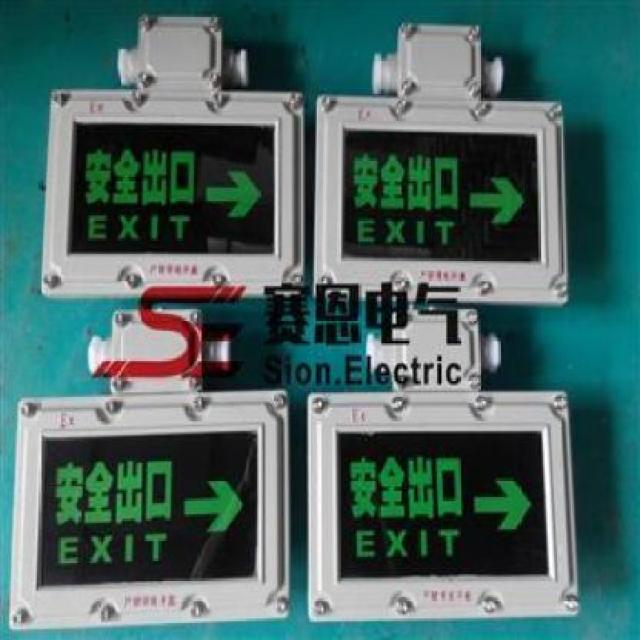exit_sign: (323, 100, 569, 274), (324, 428, 558, 592), (40, 437, 287, 579), (55, 98, 273, 255)
